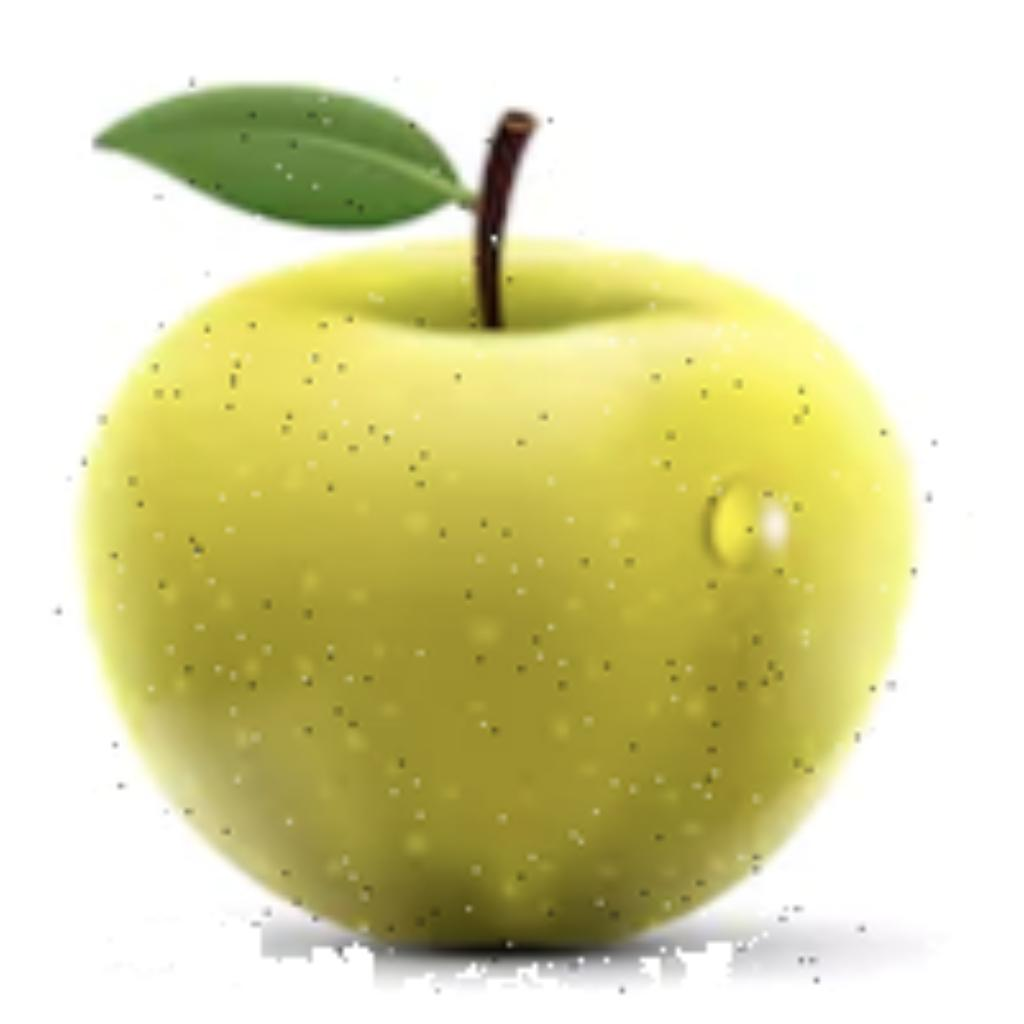apple: (61, 72, 932, 993)
